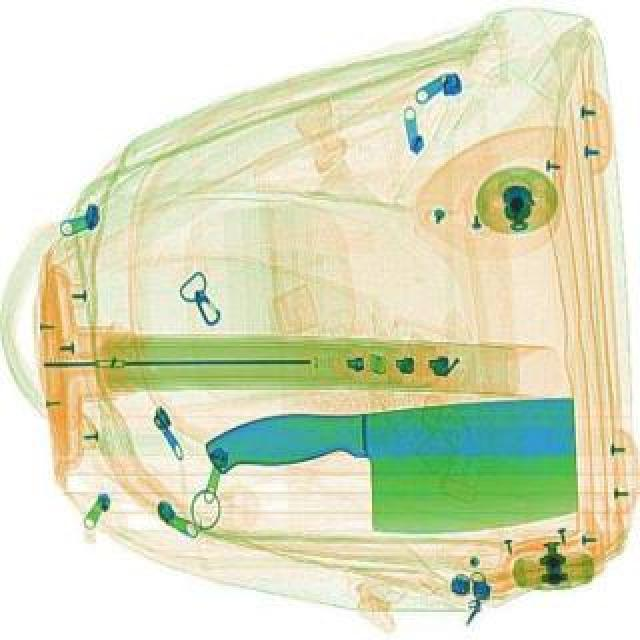knife: (202, 392, 586, 546)
